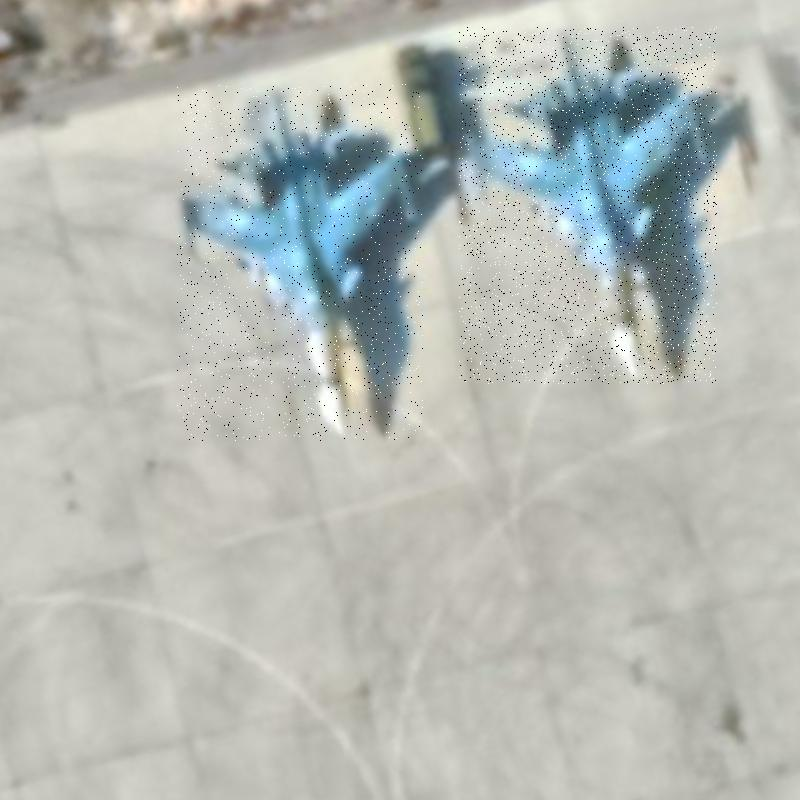A19: (459, 27, 717, 384), (177, 84, 423, 441)
